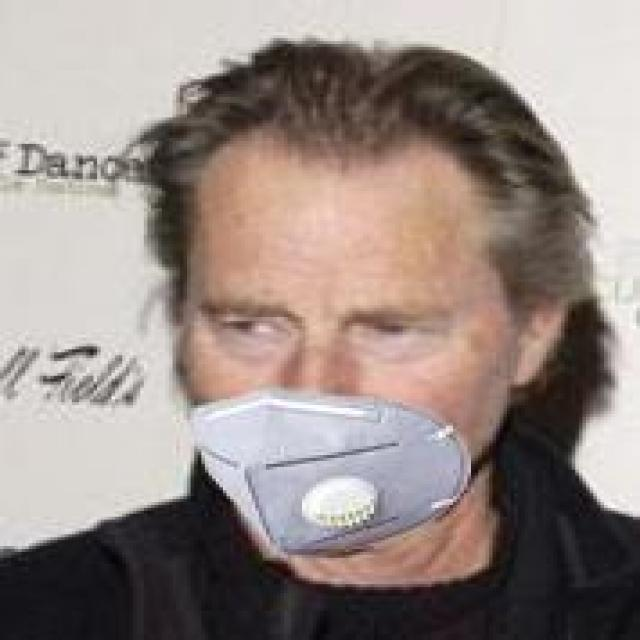mask: (130, 53, 594, 578)
